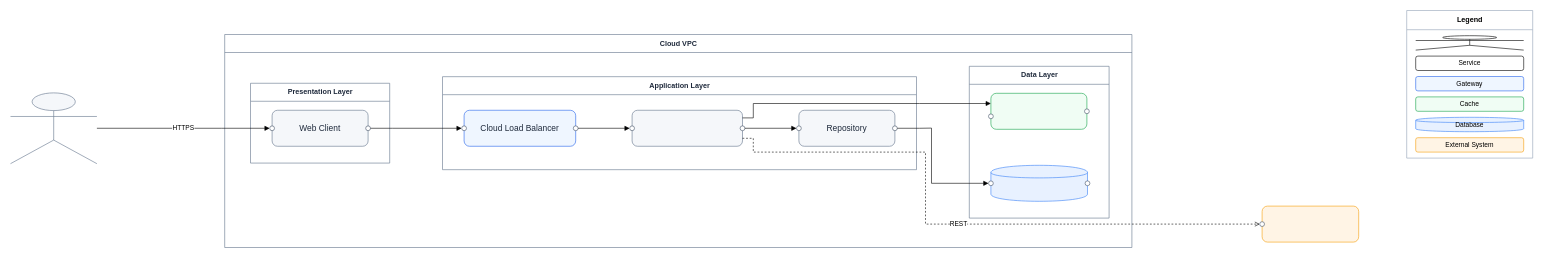
The diagram is 1543 pixels wide and 258 high, and some of its shapes have lost their labels. Each missing label, with the centre of its shape:
"Actor / User" goes at (1469,42).
"Application Service" goes at (687,128).
"External Service" goes at (1310,224).
"Primary Database" goes at (1039,183).
"Redis Cache" goes at (1038,111).
"User" goes at (53,128).
